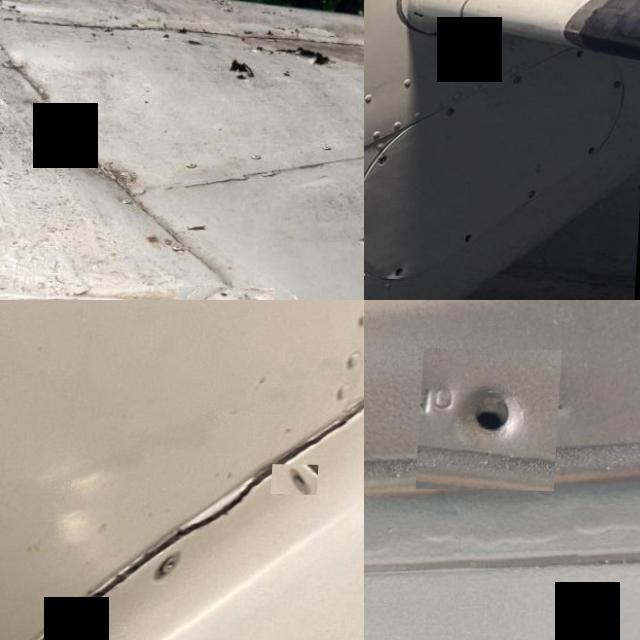Crack: (0, 525, 170, 640), (146, 472, 280, 546), (179, 286, 279, 300)
Missing_Fastener: (420, 347, 564, 490), (274, 462, 322, 493), (590, 144, 606, 158), (466, 232, 482, 243), (401, 265, 414, 277)
